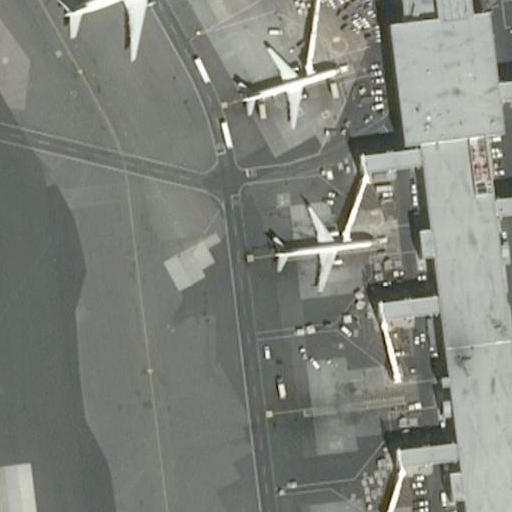Aircraft: (265, 195, 377, 294), (231, 39, 348, 129), (41, 0, 193, 60)
